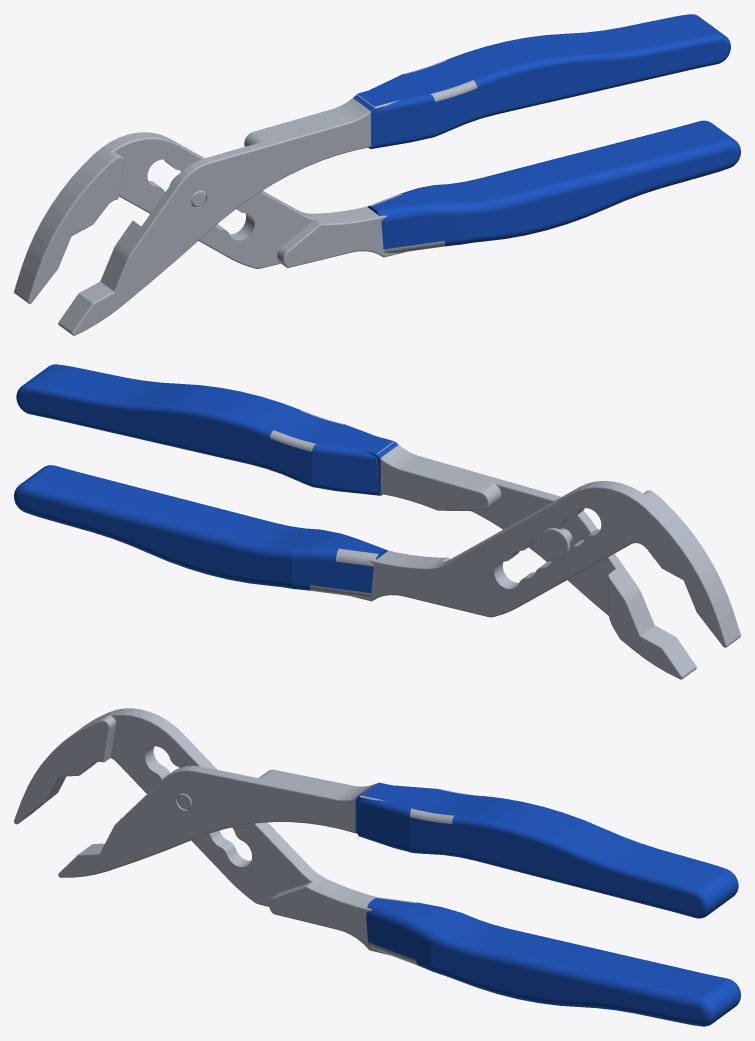
File: pliers.obj
3 renders of one model, top to bottom at view 1: azimuth 30°, elevation 25°; view 2: azimuth 150°, elevation 25°; view 3: azimuth 330°, elevation 25°, orthographic.
Bounding box in the file's own units: 0.2 × 0.0484 × 0.018.
